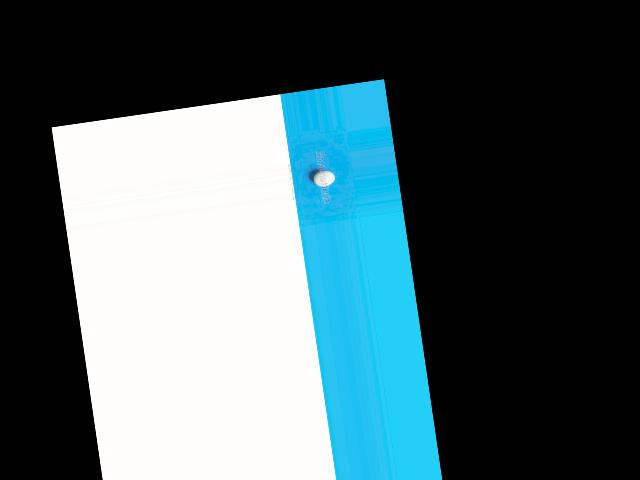egg: (312, 168, 336, 187)
